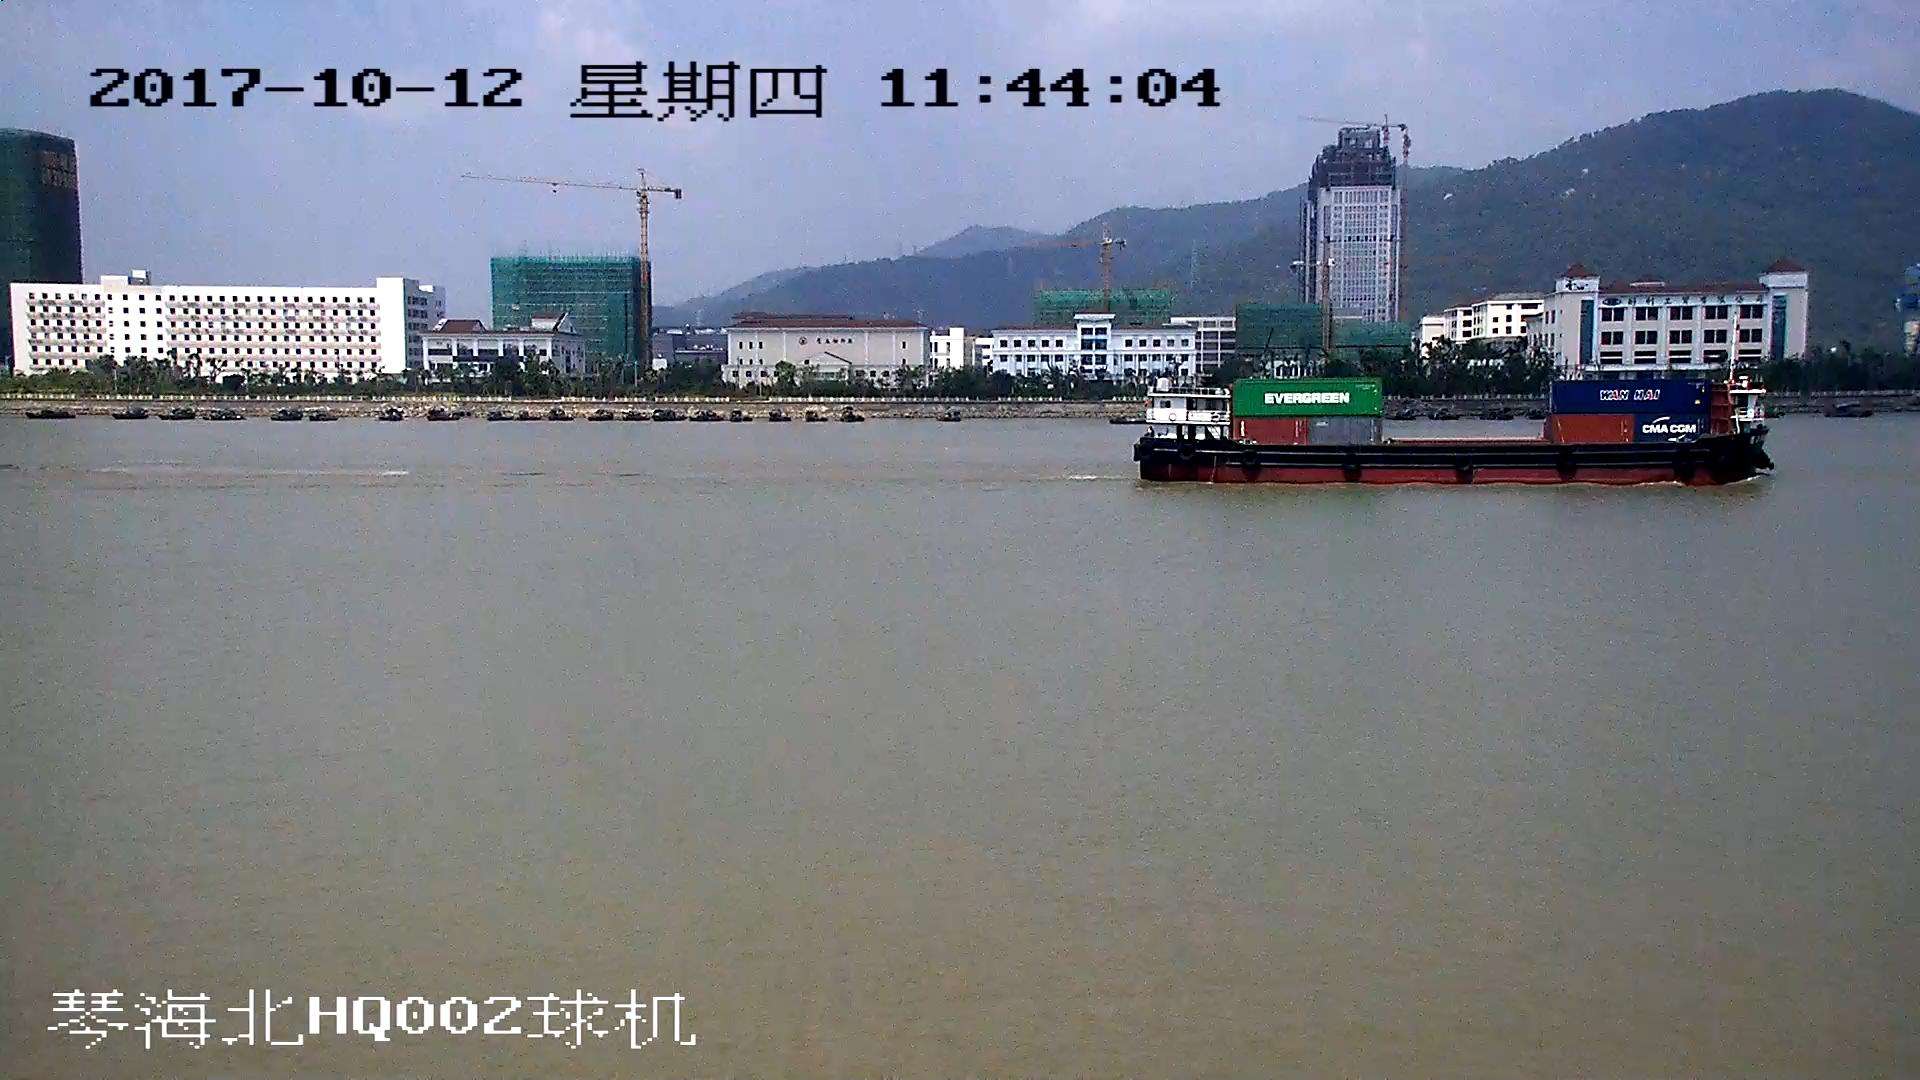container ship: (1131, 379, 1773, 487)
